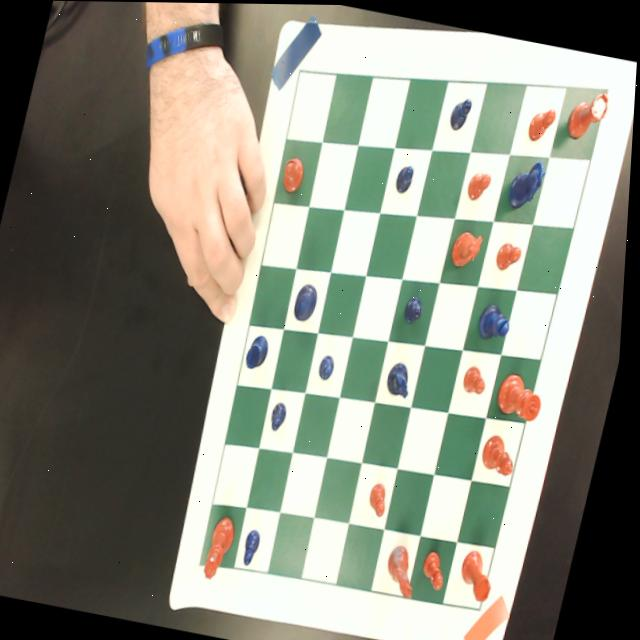B: (478, 299, 517, 340)
K: (293, 279, 323, 323)
N: (506, 152, 550, 211), (387, 359, 419, 397)
P: (447, 93, 473, 132), (246, 526, 268, 565), (403, 293, 428, 324), (272, 399, 293, 431), (395, 161, 416, 193), (320, 351, 341, 379)
R: (246, 331, 274, 369)
b: (482, 431, 524, 475), (280, 153, 308, 192)
k: (496, 367, 552, 420)
n: (386, 541, 430, 598), (449, 223, 488, 270)
p: (423, 545, 456, 591), (525, 101, 558, 144), (496, 235, 527, 270), (462, 361, 493, 395), (369, 478, 396, 515), (465, 167, 495, 200)
q: (207, 512, 244, 582)
r: (565, 82, 612, 143), (459, 544, 505, 602)
